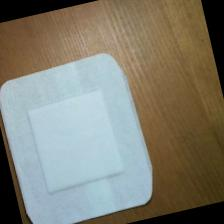Dressing: (1, 46, 166, 224)
